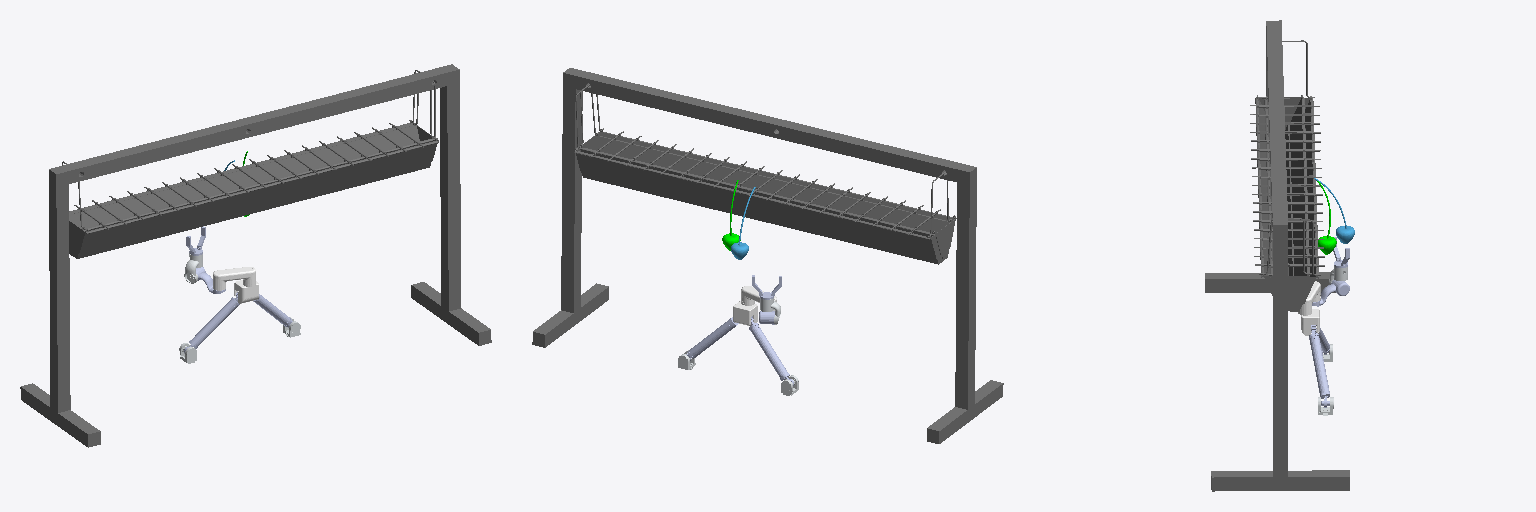
--- Render facts (derived) ---
Views: 3 orthographic renders of the robot side by side, from view 1: azimuth 30°, elevation 25°; view 2: azimuth 150°, elevation 25°; view 3: azimuth 270°, elevation 25°.
Model arm12 with 29 links and 28 joints (16 revolute, 6 continuous, 2 prismatic, 4 fixed), rooted at rotated_base, posed every joint at zero.
Links seen in each view (by area): view 1: left_holder, pot, l6, l3; view 2: left_holder, pot, l3, l11; view 3: left_holder, pot, l11.
Link boxes in pixels (x1=…): left_holder: x1=20, y1=64, x2=491, y2=447; pot: x1=62, y1=70, x2=434, y2=255; l6: x1=213, y1=267, x2=255, y2=290; l3: x1=184, y1=292, x2=239, y2=352; left_holder: x1=532, y1=68, x2=1003, y2=443; pot: x1=574, y1=85, x2=951, y2=264; l3: x1=749, y1=316, x2=793, y2=385; l11: x1=686, y1=317, x2=738, y2=360; left_holder: x1=1205, y1=20, x2=1349, y2=491; pot: x1=1259, y1=40, x2=1324, y2=311; l11: x1=1309, y1=325, x2=1329, y2=407.
Bounding box of the posed robot: 2.42 × 0.731 × 1.44 m (x, y, z).
Meshes: 18 distinct files referenced, 13 mesh visuals loaded (11 binary STL, 2 ASCII STL); not drawn: 5 (reference not matched to a file when rendering).

The robot description file, URDF, robot "arm12":
<?xml version="1.0" ?>
<!-- =================================================================================== -->
<!-- |    This document was autogenerated by xacro from src/arm12/urdf/arm12.urdf.xacro | -->
<!-- |    EDITING THIS FILE BY HAND IS NOT RECOMMENDED                                 | -->
<!-- =================================================================================== -->
<robot name="arm12">
  <!-- <robot
  name="straw"> -->
  <material name="gray">
    <color rgba="0.5 0.5 0.5 1.0"/>
  </material>
  <material name="green">
    <color rgba="0. 1 0. 1.0"/>
  </material>

  <link name="straw_base_link">
    <inertial>
      <origin rpy="0 0 0" xyz="0.72536 -2.6077 -1.278"/>
      <mass value="83.793"/>
      <inertia ixx="49.037" ixy="12.983" ixz="-0.85625" iyy="197.29" iyz="0.10604" izz="153.05"/>
    </inertial>
    <!-- <visual>
      <origin rpy="0 0 0" xyz="0 0 0"/>
      <geometry>
        <mesh filename="package://straw/meshes/straw_base_link.STL" scale="0.75 0.75 0.75"/>
      </geometry>
      <material name="gray"/>
    </visual> -->
    <collision>
      <origin rpy="0 0 0" xyz="0 0 0"/>
      <geometry>
        <mesh filename="package://straw/meshes/straw_base_link.STL"  scale="0.75 0.75 0.75"/>
      </geometry>
    </collision>
  </link>
  <link name="left_holder">
    <inertial>
      <origin rpy="0 0 0" xyz="0.068289 -1.3911 0.41242"/>
      <mass value="90.637"/>
      <inertia ixx="203.28" ixy="-5.2628E-06" ixz="-4.6215E-05" iyy="48.292" iyz="5.4272" izz="157.67"/>
    </inertial>
    <visual>
      <origin rpy="0 0 0" xyz="0 0 0"/>
      <geometry>
        <mesh filename="package://straw/meshes/left_holder.STL"  scale="0.75 0.75 0.75"/>
      </geometry>
      <material name="gray"/>
    </visual>
    <!-- <collision>
      <origin rpy="0 0 0" xyz="0 0 0"/>
      <geometry>
        <mesh filename="package://straw/meshes/left_holder.STL"  scale="0.75 0.75 0.75"/>
      </geometry>
    </collision> -->
  </link>
  <joint name="lh1" type="fixed">
    <!-- <origin rpy="-3.1003 -0.0006971 1.4841" xyz="0 0 0"/> -->
    <origin rpy="-3.1003 -0.0006971 1.4841" xyz="2.1219 -2.7952 -0.90577"/>
    <parent link="straw_base_link"/>
    <child link="left_holder"/>
    <axis xyz="0 0 0"/>
  </joint>
  <link name="pot">
    <inertial>
      <origin rpy="0 0 0" xyz="0.0723 -0.11104 1.4288"/>
      <mass value="7.0989"/>
      <inertia ixx="4.8702" ixy="1.4633E-05" ixz="-1.887E-06" iyy="4.8836" iyz="0.044366" izz="0.12976"/>
    </inertial>
    <visual>
      <origin rpy="0 0 0" xyz="0 0 0"/>
      <geometry>
        <mesh filename="package://straw/meshes/pot.STL"  scale="0.75 0.75 0.75"/>
      </geometry>
      <material name="gray"/>
    </visual>
    <collision>
      <origin rpy="0 0 0" xyz="0 0 0"/>
      <geometry>
        <mesh filename="package://straw/meshes/pot.STL"  scale="0.75 0.75 0.75"/>
      </geometry>
    </collision>
  </link>
  <joint name="lf_pot" type="fixed">
    <origin rpy="-1.5306 0 -3.1416" xyz="0.17343 0.013392 0.017884"/>
    <parent link="left_holder"/>
    <child link="pot"/>
    <axis xyz="0 0 0"/>
  </joint>
  <link name="stem1">
    <inertial>
      <origin rpy="0 0 0" xyz="0.31086 -0.35019 0.00026615"/>
      <mass value="1.1291"/>
      <inertia ixx="0.0022005" ixy="0.00034925" ixz="-8.6306E-07" iyy="0.002305" iyz="3.3465E-06" izz="0.0025724"/>
    </inertial>
    <visual>
      <origin rpy="0 0 0" xyz="0 0 0"/>
      <geometry>
        <mesh filename="package://straw/meshes/stem1.STL" scale="0.7 0.7 0.7"/>
      </geometry>
      <material name="green"/>
    </visual>
    <collision>
      <origin rpy="0 0 0" xyz="0 0 0"/>
      <geometry>
        <mesh filename="package://straw/meshes/stem1.STL" scale="0.7 0.7 0.7"/>
      </geometry>
    </collision>
  </link>
  <link name="straw1_intermediate">
    <inertial>
      <mass value="0.001"/>
      <inertia ixx="0.0001" ixy="0" ixz="0" iyy="0.0001" iyz="0" izz="0.0001"/>
    </inertial>
  </link>
  <joint name="stem1_straw1_joint_x" type="revolute">
    <parent link="stem1"/>
    <child link="straw1_intermediate"/>
    <origin rpy="0 0 0" xyz="0.33533 -0.43279 -0.0013777"/>
    <axis xyz="1 0 0"/>
    <limit effort="10" lower="-0.785" upper="0.785" velocity="1"/>
    <dynamics damping="0.5" friction="0.1"/>
  </joint>
  <joint name="stem1_straw1_joint_y" type="revolute">
    <parent link="straw1_intermediate"/>
    <child link="straw1"/>
    <origin rpy="0.25307 -1.4835 0" xyz="0 0 0"/>
    <axis xyz="0 1 0"/>
    <limit effort="10" lower="-0.785" upper="0.785" velocity="1"/>
    <dynamics damping="0.5" friction="0.1"/>
  </joint>
  <link name="straw1">
    <inertial>
      <origin rpy="0 0 0" xyz="0 0.075854 -9.8582E-07"/>
      <mass value="1.0831"/>
      <inertia ixx="0.0017742" ixy="3.2552E-19" ixz="2.1395E-23" iyy="0.0019325" iyz="3.2233E-08" izz="0.0017742"/>
    </inertial>
    <visual>
      <origin rpy="0 0 0" xyz="0 0 0"/>
      <geometry>
        <mesh filename="package://straw/meshes/straw1.STL" scale="1 1 1"/>
      </geometry>
      <material name="transparent_gray">
        <color rgba="0.5 0.5 0.5 0"/> 
      </material>
    </visual>
    <!-- <collision>
      <origin rpy="0 0 0" xyz="0 0 0"/>
      <geometry>
        <mesh filename="package://straw/meshes/straw1.STL" scale="1 1 1"/>
      </geometry>
    </collision> -->
  </link>
  <link name="stem2">
    <inertial>
      <origin rpy="0 0 0" xyz="0.32679 -0.34228 -0.0023318"/>
      <mass value="1.1291"/>
      <inertia ixx="0.0022449" ixy="0.00031251" ixz="-4.7508E-06" iyy="0.0022602" iyz="6.5609E-06" izz="0.0025727"/>
    </inertial>
    <visual>
      <origin rpy="0 0 0" xyz="0 0 0"/>
      <geometry>
        <mesh filename="package://straw/meshes/stem2.STL" scale="0.7 0.7 0.7"/>
      </geometry>
      <material name="green"/>
    </visual>
    <collision>
      <origin rpy="0 0 0" xyz="0 0 0"/>
      <geometry>
        <mesh filename="package://straw/meshes/stem2.STL" scale="0.7 0.7 0.7"/>
      </geometry>
    </collision>
  </link>
  <link name="straw2_intermediate">
    <inertial>
      <mass value="0.001"/>
      <inertia ixx="0.0001" ixy="0" ixz="0" iyy="0.0001" iyz="0" izz="0.0001"/>
    </inertial>
  </link>
  <joint name="stem2_straw2_joint_x" type="revolute">
    <parent link="stem2"/>
    <child link="straw2_intermediate"/>
    <origin rpy="0 0 0" xyz="0.37743 -0.41247 -0.0063167"/>
    <axis xyz="1 0 0"/>
    <limit effort="10" lower="-0.785" upper="0.785" velocity="1"/>
    <dynamics damping="0.5" friction="0.1"/>
  </joint>
  <joint name="stem2_straw2_joint_y" type="revolute">
    <parent link="straw2_intermediate"/>
    <child link="straw2"/>
    <origin rpy="0.62832 -1.4835 0" xyz="0 0 0"/>
    <axis xyz="0 1 0"/>
    <limit effort="10" lower="-0.785" upper="0.785" velocity="1"/>
    <dynamics damping="0.5" friction="0.1"/>
  </joint>
  <link name="straw2">
    <inertial>
      <origin rpy="0 0 0" xyz="0 0.075854 -9.8582E-07"/>
      <mass value="1.0831"/>
      <inertia ixx="0.0017742" ixy="2.5998E-20" ixz="2.2169E-24" iyy="0.0019325" iyz="3.2233E-08" izz="0.0017742"/>
    </inertial>
    <visual>
      <origin rpy="0 0 0" xyz="0 0 0"/>
      <geometry>
        <mesh filename="package://straw/meshes/straw2.STL" scale="1 1 1"/>
      </geometry>
      <material name="transparent_gray">
        <color rgba="0.5 0.5 0.5 0"/> 
      </material>
    </visual>
    <!-- <collision>
      <origin rpy="0 0 0" xyz="0 0 0"/>
      <geometry>
        <mesh filename="package://straw/meshes/straw2.STL" scale="1 1 1"/>
      </geometry>
    </collision> -->
  </link>
  <link name="stem3">
    <inertial>
      <origin rpy="0 0 0" xyz="0.31061 -0.35019 -0.0026474"/>
      <mass value="1.1291"/>
      <inertia ixx="0.0022005" ixy="0.00034925" ixz="-8.6306E-07" iyy="0.002305" iyz="3.3465E-06" izz="0.0025724"/>
    </inertial>
    <visual>
      <origin rpy="0 0 0" xyz="0 0 0"/>
      <geometry>
        <mesh filename="package://straw/meshes/stem3.STL" scale="0.7 0.7 0.7"/>
      </geometry>
      <!-- <material name="gray"/> -->
    </visual>
    <collision>
      <origin rpy="0 0 0" xyz="0 0 0"/>
      <geometry>
        <mesh filename="package://straw/meshes/stem3.STL" scale="0.7 0.7 0.7"/>
      </geometry>
    </collision>
  </link>
  <link name="straw3_intermediate">
    <inertial>
      <mass value="0.001"/>
      <inertia ixx="0.0001" ixy="0" ixz="0" iyy="0.0001" iyz="0" izz="0.0001"/>
    </inertial>
  </link>
  <joint name="stem3_straw3_joint_x" type="revolute">
    <parent link="stem3"/>
    <child link="straw3_intermediate"/>
    <origin rpy="0 0 0" xyz="0.33506 -0.43279 -0.0044151"/>
    <axis xyz="1 0 0"/>
    <limit effort="10" lower="-0.785" upper="0.785" velocity="1"/>
    <dynamics damping="0.5" friction="0.1"/>
  </joint>
  <joint name="stem3_straw3_joint_y" type="revolute">
    <parent link="straw3_intermediate"/>
    <child link="straw3"/>
    <origin rpy="0.25307 -1.4835 0" xyz="0 0 0"/>
    <axis xyz="0 1 0"/>
    <limit effort="10" lower="-0.785" upper="0.785" velocity="1"/>
    <dynamics damping="0.5" friction="0.1"/>
  </joint>
  <link name="straw3">
    <inertial>
      <origin rpy="0 0 0" xyz="-2.2204E-16 0.075854 -9.8582E-07"/>
      <mass value="1.0831"/>
      <inertia ixx="0.0017742" ixy="6.2414E-20" ixz="1.0659E-23" iyy="0.0019325" iyz="3.2233E-08" izz="0.0017742"/>
    </inertial>
    <visual>
      <origin rpy="0 0 0" xyz="0 0 0"/>
      <geometry>
        <mesh filename="package://straw/meshes/straw3.STL" scale="1 1 1" />
      </geometry>
      <material name="transparent_gray">
        <color rgba="0.5 0.5 0.5 0"/> 
      </material>

    </visual>
    <!-- <collision>
      <origin rpy="0 0 0" xyz="0 0 0"/>
      <geometry>
        <mesh filename="package://straw/meshes/straw3.STL" scale="0.75 0.75 0.75"/>
      </geometry>
    </collision> -->
  </link>
  <!-- <link name="right_holder">
    <inertial>
      <origin rpy="0 0 0" xyz="0.16998 1.3378 0.16679"/>
      <mass value="7.0141"/>
      <inertia ixx="4.8686" ixy="1.7169E-06" ixz="-4.633E-05" iyy="0.12782" iyz="-0.073617" izz="4.8819"/>
    </inertial>
    <visual>
      <origin rpy="0 0 0" xyz="0 0 0"/>
      <geometry>
        <mesh filename="package://straw/meshes/right_holder.STL"/>
      </geometry>
      <material name="gray"/>
    </visual>
    <collision>
      <origin rpy="0 0 0" xyz="0 0 0"/>
      <geometry>
        <mesh filename="package://straw/meshes/right_holder.STL"/>
      </geometry>
    </collision>
  </link> -->
  <!-- <joint name="rh1" type="fixed">
    <origin rpy="3.1178 -0.0006971 1.4841" xyz="-0.64819 -2.6236 -0.90294"/>
    <parent link="base_link"/>
    <child link="right_holder"/>
    <axis xyz="0 0 0"/>
  </joint> -->
  <link name="stem1_intermediate1">
    <inertial>
      <mass value="0.001"/>
      <inertia ixx="0.0001" ixy="0" ixz="0" iyy="0.0001" iyz="0" izz="0.0001"/>
    </inertial>
  </link>
  <link name="stem1_intermediate2">
    <inertial>
      <mass value="0.001"/>
      <inertia ixx="0.0001" ixy="0" ixz="0" iyy="0.0001" iyz="0" izz="0.0001"/>
    </inertial>
  </link>
  <joint name="pot_stem1_x" type="revolute">
    <parent link="pot"/>
    <child link="stem1_intermediate1"/>
    <origin rpy="0 0 0" xyz="-0.069846 0.034051 0.92078"/>
    <axis xyz="1 0 0"/>
    <limit effort="10" lower="-0.523" upper="0.523" velocity="1"/>
    <dynamics damping="0.5" friction="0.1"/>
  </joint>
  <joint name="pot_stem1_y" type="revolute">
    <parent link="stem1_intermediate1"/>
    <child link="stem1_intermediate2"/>
    <origin rpy="0 0 0" xyz="0 0 0"/>
    <axis xyz="0 1 0"/>
    <limit effort="10" lower="-0.523" upper="0.523" velocity="1"/>
    <dynamics damping="0.5" friction="0.1"/>
  </joint>
  <joint name="pot_stem1_z" type="revolute">
    <parent link="stem1_intermediate2"/>
    <child link="stem1"/>
    <origin rpy="3.1189 0.0035789 -2.8888" xyz="0 0 0"/>
    <axis xyz="0 0 1"/>
    <limit effort="10" lower="-0.523" upper="0.523" velocity="1"/>
    <dynamics damping="0.5" friction="0.1"/>
  </joint>
  <link name="stem2_intermediate1">
    <inertial>
      <mass value="0.001"/>
      <inertia ixx="0.0001" ixy="0" ixz="0" iyy="0.0001" iyz="0" izz="0.0001"/>
    </inertial>
  </link>
  <link name="stem2_intermediate2">
    <inertial>
      <mass value="0.001"/>
      <inertia ixx="0.0001" ixy="0" ixz="0" iyy="0.0001" iyz="0" izz="0.0001"/>
    </inertial>
  </link>
  <joint name="pot_stem2_x" type="revolute">
    <parent link="pot"/>
    <child link="stem2_intermediate1"/>
    <origin rpy="0 0 0" xyz="-0.071011 0.062145 0.99538"/>
    <axis xyz="1 0 0"/>
    <limit effort="10" lower="-0.523" upper="0.523" velocity="1"/>
    <dynamics damping="0.5" friction="0.1"/>
  </joint>
  <joint name="pot_stem2_y" type="revolute">
    <parent link="stem2_intermediate1"/>
    <child link="stem2_intermediate2"/>
    <origin rpy="0 0 0" xyz="0 0 0"/>
    <axis xyz="0 1 0"/>
    <limit effort="10" lower="-0.523" upper="0.523" velocity="1"/>
    <dynamics damping="0.5" friction="0.1"/>
  </joint>
  <joint name="pot_stem2_z" type="revolute">
    <parent link="stem2_intermediate2"/>
    <child link="stem2"/>
    <origin rpy="3.0898 0.017653 -2.5152" xyz="0 0 0"/>
    <axis xyz="0 0 1"/>
    <limit effort="10" lower="-0.523" upper="0.523" velocity="1"/>
    <dynamics damping="0.5" friction="0.1"/>
  </joint>
  <link name="stem3_intermediate1">
    <inertial>
      <mass value="0.001"/>
      <inertia ixx="0.0001" ixy="0" ixz="0" iyy="0.0001" iyz="0" izz="0.0001"/>
    </inertial>
  </link>
  <link name="stem3_intermediate2">
    <inertial>
      <mass value="0.001"/>
      <inertia ixx="0.0001" ixy="0" ixz="0" iyy="0.0001" iyz="0" izz="0.0001"/>
    </inertial>
  </link>
  <joint name="pot_stem3_x" type="revolute">
    <parent link="pot"/>
    <child link="stem3_intermediate1"/>
    <origin rpy="0 0 0" xyz="-0.05556 0.033891 1.0852"/>
    <axis xyz="1 0 0"/>
    <limit effort="10" lower="-0.523" upper="0.523" velocity="1"/>
    <dynamics damping="0.5" friction="0.1"/>
  </joint>
  <joint name="pot_stem3_y" type="revolute">
    <parent link="stem3_intermediate1"/>
    <child link="stem3_intermediate2"/>
    <origin rpy="0 0 0" xyz="0 0 0"/>
    <axis xyz="0 1 0"/>
    <limit effort="10" lower="-0.523" upper="0.523" velocity="1"/>
    <dynamics damping="0.5" friction="0.1"/>
  </joint>
  <joint name="pot_stem3_z" type="revolute">
    <parent link="stem3_intermediate2"/>
    <child link="stem3"/>
    <origin rpy="3.1189 0.0035789 -2.8888" xyz="0 0 0"/>
    <axis xyz="0 0 1"/>
    <limit effort="10" lower="-0.523" upper="0.523" velocity="1"/>
    <dynamics damping="0.5" friction="0.1"/>
  </joint>
  <link name="rotated_base"/>
  <joint name="rot_to_base" type="fixed">
    <parent link="rotated_base"/>
    <child link="base_link"/>
    <origin rpy="0 3.14 0" xyz="0 0 0"/>
  </joint>
  <joint name="attach_straw" type="fixed">
    <parent link="rotated_base"/>
    <child link="straw_base_link"/>
    <origin rpy="0 0 0.1" xyz="-1.3 2.3 2"/>
  </joint>
  <link name="base_link">
    <inertial>
      <origin rpy="0 0 0" xyz="-0.114741653388133 -0.00394836028883594 -0.0536105920933669"/>
      <mass value="2.63443753992699"/>
      <inertia ixx="0.00189567328668365" ixy="7.29873865389891E-06" ixz="0.000140090900098037" iyy="0.158992383742472" iyz="1.36209227842431E-06" izz="0.158257846821755"/>
    </inertial>
    <visual>
      <origin rpy="0 0 0" xyz="0 0 0"/>
      <geometry>
        <mesh filename="package://arm12/meshes/base_link.STL"/>
      </geometry>
      <material name="">
        <color rgba="0.792156862745098 0.819607843137255 0.933333333333333 1"/>
      </material>
    </visual>
    <collision>
      <origin rpy="0 0 0" xyz="0 0 0"/>
      <geometry>
        <mesh filename="package://arm12/meshes/base_link.STL"/>
      </geometry>
    </collision>
  </link>
  <link name="l1">
    <inertial>
      <origin rpy="0 0 0" xyz="0.403597483420043 -0.0414638574022828 0.00700359932104074"/>
      <mass value="0.381600228345592"/>
      <inertia ixx="0.000152419359459052" ixy="-1.16717541525886E-07" ixz="-4.78639401455686E-07" iyy="0.00015874224871389" iyz="3.26007402233397E-07" izz="0.000167838112577603"/>
    </inertial>
    <visual>
      <origin rpy="0 0 0" xyz="0 0 0"/>
      <geometry>
        <mesh filename="package://arm12/meshes/l1.STL"/>
      </geometry>
      <material name="">
        <color rgba="0.898039215686275 0.917647058823529 0.929411764705882 1"/>
      </material>
    </visual>
    <collision>
      <origin rpy="0 0 0" xyz="0 0 0"/>
      <geometry>
        <mesh filename="package://arm12/meshes/l1.STL"/>
      </geometry>
    </collision>
  </link>
  <joint name="j1" type="prismatic">
    <origin rpy="1.5708 0 0" xyz="-0.79073 0.0075 -0.026676"/>
    <parent link="base_link"/>
    <child link="l1"/>
    <axis xyz="1 0.00024256 0"/>
    <limit effort="1000" lower="-0.37" upper="0.35" velocity="1000"/>
  </joint>
  <link name="l11">
    <inertial>
      <origin rpy="0 0 0" xyz="0.109124708134365 -0.106742142823085 0.0291269836365173"/>
      <mass value="0.308192429361636"/>
      <inertia ixx="0.00036660835632017" ixy="0.000236532188858594" ixz="-5.91891737788076E-05" iyy="0.000377052003364126" iyz="5.79126892712075E-05" izz="0.000595833629485193"/>
    </inertial>
    <visual>
      <origin rpy="0 0 0" xyz="0 0 0"/>
      <geometry>
        <mesh filename="package://arm12/meshes/l11.STL"/>
      </geometry>
      <material name="">
        <color rgba="0.792156862745098 0.819607843137255 0.933333333333333 1"/>
      </material>
    </visual>
    <collision>
      <origin rpy="0 0 0" xyz="0 0 0"/>
      <geometry>
        <mesh filename="package://arm12/meshes/l11.STL"/>
      </geometry>
    </collision>
  </link>
  <joint name="j11" type="continuous">
    <origin rpy="0 0 0" xyz="0.403574468337888 -0.0486058728976355 -0.000248553231492891"/>
    <parent link="l1"/>
    <child link="l11"/>
    <axis xyz="0 0 -1"/>
  </joint>
  <link name="l2">
    <inertial>
      <origin rpy="0 0 0" xyz="1.0157003601035 -0.0384463563381593 0.00765610841163893"/>
      <mass value="0.51688405008029"/>
      <inertia ixx="0.000289252991255811" ixy="6.16500231917276E-07" ixz="-1.38368241480024E-06" iyy="0.000291829291446418" iyz="-1.10552388292668E-06" izz="0.00026788505040365"/>
    </inertial>
    <visual>
      <origin rpy="0 0 0" xyz="0 0 0"/>
      <geometry>
        <mesh filename="package://arm12/meshes/l2.STL"/>
      </geometry>
      <material name="">
        <color rgba="0.898039215686275 0.917647058823529 0.929411764705882 1"/>
      </material>
    </visual>
    <collision>
      <origin rpy="0 0 0" xyz="0 0 0"/>
      <geometry>
        <mesh filename="package://arm12/meshes/l2.STL"/>
      </geometry>
    </collision>
  </link>
  <joint name="j2" type="prismatic">
    <origin rpy="1.5708 0 0" xyz="-0.79073 0.0075 -0.026676"/>
    <parent link="base_link"/>
    <child link="l2"/>
    <axis xyz="1 0.00024256 0"/>
    <limit effort="1000" lower="-0.26" upper="0.32" velocity="1000"/>
  </joint>
  <link name="l3">
    <inertial>
      <origin rpy="0 0 0" xyz="-0.10814121670337 -0.105773126393835 0.0288760940795127"/>
      <mass value="0.306128922940993"/>
      <inertia ixx="0.000367090541907876" ixy="-0.000237220677320172" ixz="5.90721357269542E-05" iyy="0.000377593275938236" iyz="5.77716342409563E-05" izz="0.000596928132744383"/>
    </inertial>
    <visual>
      <origin rpy="0 0 0" xyz="0 0 0"/>
      <geometry>
        <mesh filename="package://arm12/meshes/l3.STL"/>
      </geometry>
      <material name="">
        <color rgba="0.792156862745098 0.819607843137255 0.933333333333333 1"/>
      </material>
    </visual>
    <collision>
      <origin rpy="0 0 0" xyz="0 0 0"/>
      <geometry>
        <mesh filename="package://arm12/meshes/l3.STL"/>
      </geometry>
    </collision>
  </link>
  <joint name="j3" type="revolute">
    <origin rpy="0 0 0" xyz="1.0158 -0.048606 -0.00024711"/>
    <parent link="l2"/>
    <child link="l3"/>
    <axis xyz="0 0 -1"/>
    <limit effort="1000" lower="-0.65" upper="0.7" velocity="1000"/>
  </joint>
  <link name="l4">
    <inertial>
      <origin rpy="0 0 0" xyz="-0.0247644704780808 -0.0233597492007901 0.033905617015353"/>
      <mass value="0.247877954974344"/>
      <inertia ixx="0.000275512262276771" ixy="-4.01235172214852E-08" ixz="5.68470398676511E-07" iyy="0.000303231827207215" iyz="4.68448608364464E-05" izz="0.000495903390975614"/>
    </inertial>
    <visual>
      <origin rpy="0 0 0" xyz="0 0 0"/>
      <geometry>
        <mesh filename="package://arm12/meshes/l4.STL"/>
      </geometry>
      <material name="">
        <color rgba="1 1 1 1"/>
      </material>
    </visual>
    <collision>
      <origin rpy="0 0 0" xyz="0 0 0"/>
      <geometry>
        <mesh filename="package://arm12/meshes/l4.STL"/>
      </geometry>
    </collision>
  </link>
  <joint name="j4" type="continuous">
    <origin rpy="0 0 0" xyz="-0.2814 -0.27508 0.049459"/>
    <parent link="l3"/>
    <child link="l4"/>
    <axis xyz="0 0 1"/>
    <limit effort="1000" lower="1000" upper="1000" velocity="1000"/>
    <mimic joint="j3" multiplier="1" offset="0"/>
  </joint>
  <link name="l6">
    <inertial>
      <origin rpy="0 0 0" xyz="0.0835083121801821 -0.0131318490598266 -0.022315022598535"/>
      <mass value="0.492993890644909"/>
      <inertia ixx="0.000390471608455916" ixy="2.48268434817755E-06" ixz="0.000302295718302552" iyy="0.00155512945705818" iyz="-1.20122073303538E-06" izz="0.00147705952278512"/>
    </inertial>
    <visual>
      <origin rpy="0 0 0" xyz="0 0 0"/>
      <geometry>
        <mesh filename="package://arm12/meshes/l6.STL"/>
      </geometry>
      <material name="">
        <color rgba="1 1 1 1"/>
      </material>
    </visual>
    <collision>
      <origin rpy="0 0 0" xyz="0 0 0"/>
      <geometry>
        <mesh filename="package://arm12/meshes/l6.STL"/>
      </geometry>
    </collision>
  </link>
  <joint name="j6" type="continuous">
    <origin rpy="0 0 0" xyz="-0.031134 -0.097956 0.059414"/>
    <parent link="l4"/>
    <child link="l6"/>
    <axis xyz="0 1 0"/>
    <limit effort="1000" lower="1000" upper="1000" velocity="1000"/>
  </joint>
  <link name="l7">
    <inertial>
      <origin rpy="0 0 0" xyz="0.0315318501806746 0.00583507478957768 -0.0817967507514115"/>
      <mass value="0.200740625287396"/>
      <inertia ixx="0.000563180696639149" ixy="8.48547014814516E-05" ixz="0.000202999903698582" iyy="0.000610313185565538" iyz="-0.000156946216691284" izz="0.000315973335029523"/>
    </inertial>
    <visual>
      <origin rpy="0 0 0" xyz="0 0 0"/>
      <geometry>
        <mesh filename="package://arm12/meshes/l7.STL"/>
      </geometry>
      <material name="">
        <color rgba="0.792156862745098 0.819607843137255 0.933333333333333 1"/>
      </material>
    </visual>
    <collision>
      <origin rpy="0 0 0" xyz="0 0 0"/>
      <geometry>
        <mesh filename="package://arm12/meshes/l7.STL"/>
      </geometry>
    </collision>
  </link>
  <joint name="j7" type="continuous">
    <origin rpy="0 0 0" xyz="0.16802 0 -0.043732"/>
    <parent link="l6"/>
    <child link="l7"/>
    <axis xyz="0 1 0"/>
    <limit effort="1000" lower="1000" upper="1000" velocity="1000"/>
  </joint>
  <link name="l8">
    <inertial>
      <origin rpy="0 0 0" xyz="-0.00639785855543679 -0.105467190035519 0.0332454721635889"/>
      <mass value="0.232745208884819"/>
      <inertia ixx="0.000344329566709667" ixy="-0.000100351533357395" ixz="-3.41790292256826E-06" iyy="0.000220748774570507" iyz="9.99580236012298E-06" izz="0.000406188026813068"/>
    </inertial>
    <visual>
      <origin rpy="0 1.57 0" xyz="-0.042  -0.274 0.085"/>
      <geometry>
        <mesh filename="package://arm12/meshes/l8.STL"/>
      </geometry>
      <material name="">
        <color rgba="0.898039215686275 0.917647058823529 0.929411764705882 1"/>
      </material>
    </visual>
    <collision>
      <origin rpy="0 1.57 0" xyz="-0.042  -0.274 0.085"/>
      <geometry>
        <mesh filename="package://arm12/meshes/l8.STL"/>
      </geometry>
    </collision>
  </link>
  <joint name="j8" type="continuous">
    <origin rpy="0.48 -0.47 0" xyz="0.057439 -0.0094087 -0.13"/>
    <parent link="l7"/>
    <child link="l8"/>
    <axis xyz="-1 0 0"/>
    <limit effort="1000" lower="1000" upper="1000" velocity="1000"/>
  </joint>
  <link name="tool0">
    <inertial>
      <origin rpy="0 0 0" xyz="0.0835083121801821 -0.0131318490598266 -0.022315022598535"/>
      <mass value="0.492993890644909"/>
      <inertia ixx="0.000390471608455916" ixy="2.48268434817755E-06" ixz="0.000302295718302552" iyy="0.00155512945705818" iyz="-1.20122073303538E-06" izz="0.00147705952278512"/>
    </inertial>
    <visual>
      <origin rpy="1.57 0 0" xyz="-0.0773 0.042 -0.036"/>
      <geometry>
        <mesh filename="package://arm12/meshes/gripper.STL"/>
      </geometry>
      <material name="">
        <color rgba="0.792156862745098 0.819607843137255 0.933333333333333 1"/>
      </material>
    </visual>
    <collision>
      <origin rpy="0 0 0 " xyz="0 0 0"/>
      <geometry>
        <mesh filename="package://arm12/meshes/gripper.STL"/>
      </geometry>
    </collision>
  </link>
  <joint name="tool0_joint" type="continuous">
    <axis xyz="0 -1 0"/>
    <limit effort="1000" lower="1000" upper="1000" velocity="1000"/>
    <parent link="l8"/>
    <child link="tool0"/>
    <origin rpy="-0.48 0 0" xyz="-0.007 -0.09 0.047"/>
  </joint>
</robot>
<!-- <origin xyz="-0.025 -0.2 0.05" rpy="-0.35 -0.50 0"/> -->
